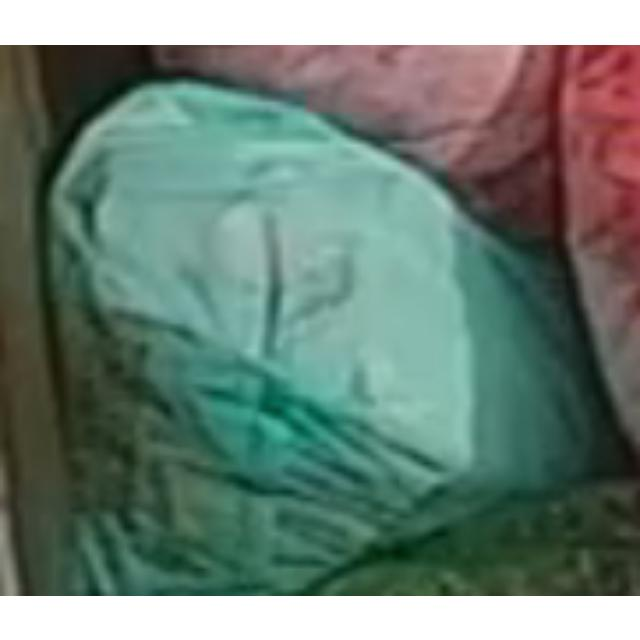other_trashbag: (50, 83, 622, 593)
